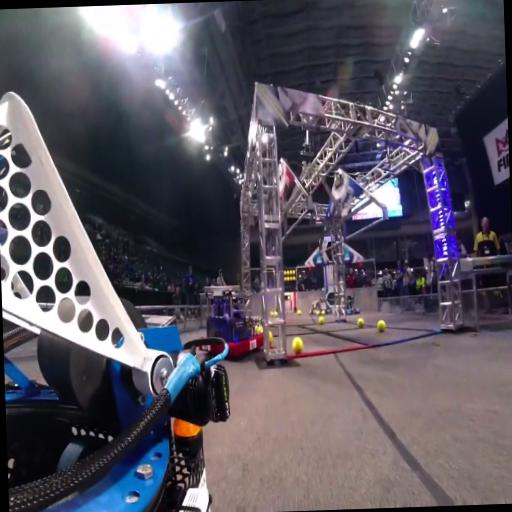robot: (196, 288, 264, 360), (310, 297, 332, 315), (342, 295, 359, 315)
